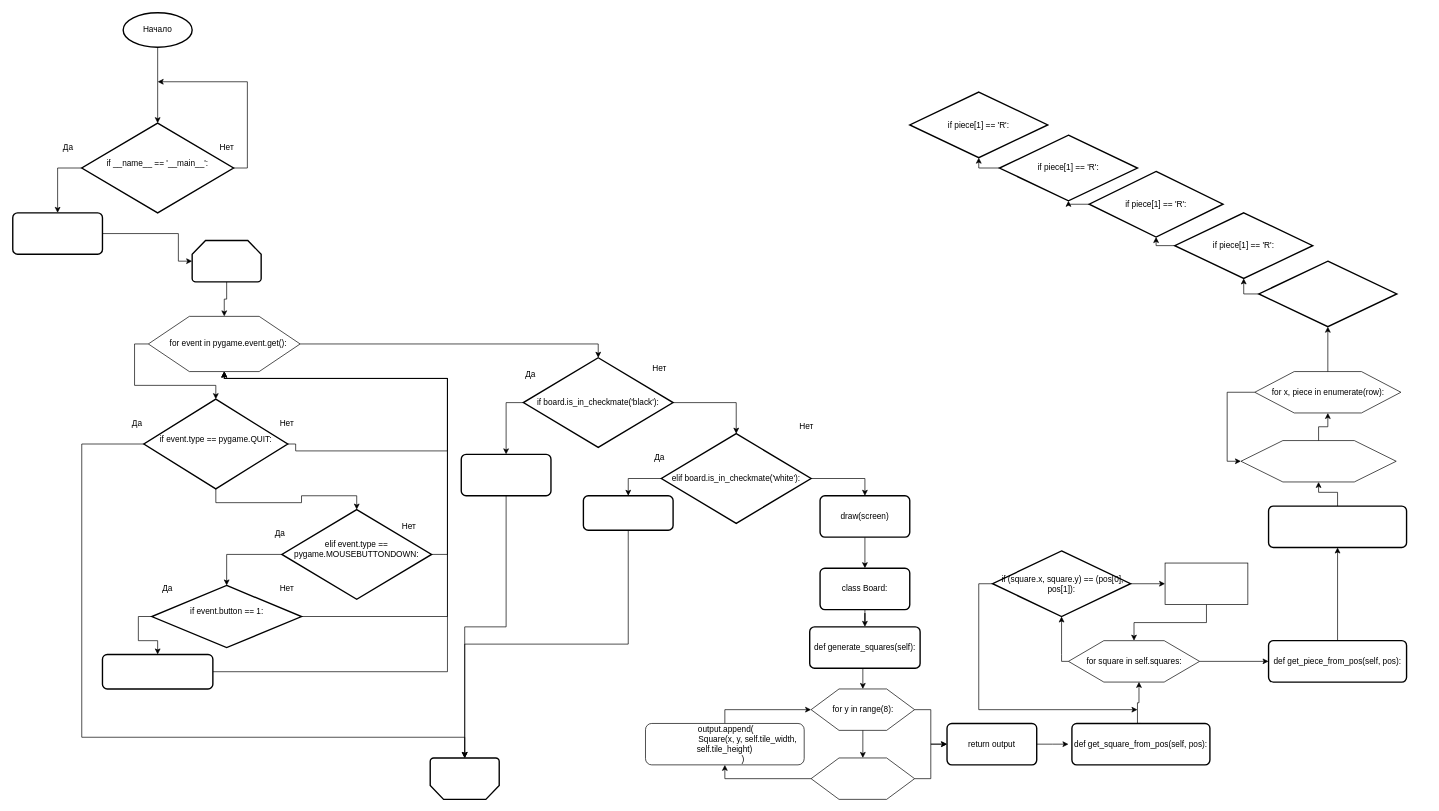
The diagram is 1439 pixels wide and 811 high, and some of its shapes have lost their labels. Each missing label, with the centre of its shape:
board.handle_click(mx, my): the point at 157,671
def setup_board(self):: the point at 1337,526
for x in range(8):: the point at 862,778
for y, row in enumerate(self.config):: the point at 1318,461
if piece != '"":: the point at 1327,293
print('Black wins!'): the point at 627,513
print('White wins!'): the point at 505,474
return square: the point at 1206,583
running = False: the point at 464,778
running = True: the point at 57,233
while running:: the point at 226,260
